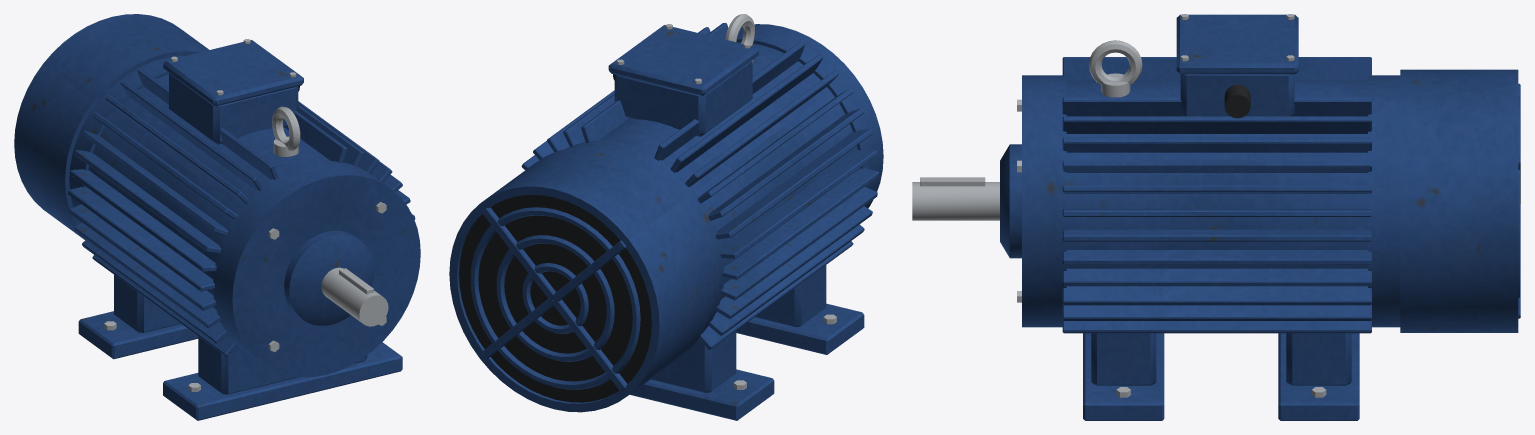
Rendered from industrial-electric-motor.glb.
The picture shows the model from 3 angles, left to right: view 1: azimuth 30°, elevation 25°; view 2: azimuth 150°, elevation 25°; view 3: azimuth 270°, elevation 25°; orthographic projection. The views are drawn at different scales.
Visible parts, largest first — view 1: Electric_Motor, Shaft; view 2: Electric_Motor; view 3: Electric_Motor, Shaft.
Part boxes in pixels (x1,y1,x2,y2): Electric_Motor: [14, 14, 420, 420]; Shaft: [321, 267, 388, 326]; Electric_Motor: [449, 14, 883, 420]; Electric_Motor: [1000, 14, 1520, 420]; Shaft: [912, 177, 999, 220].
Bounding box in the file's own units: 0.356 × 0.444 × 0.748.
Materials: 4 (1 with a texture image).
